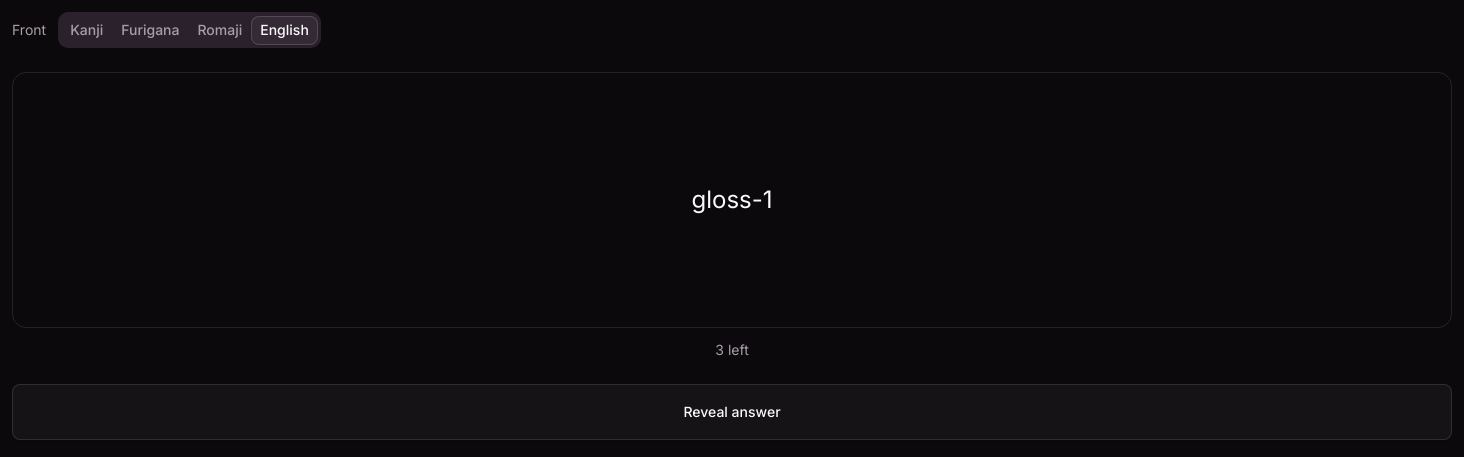
Scenario: Flashcards › flipping › shows the headword on the back in english mode, since the front had the gloss
The image size is (1464, 457).
Step 1. Click the button "Reveal answer" → x=732, y=412, box [12,384,1452,440]
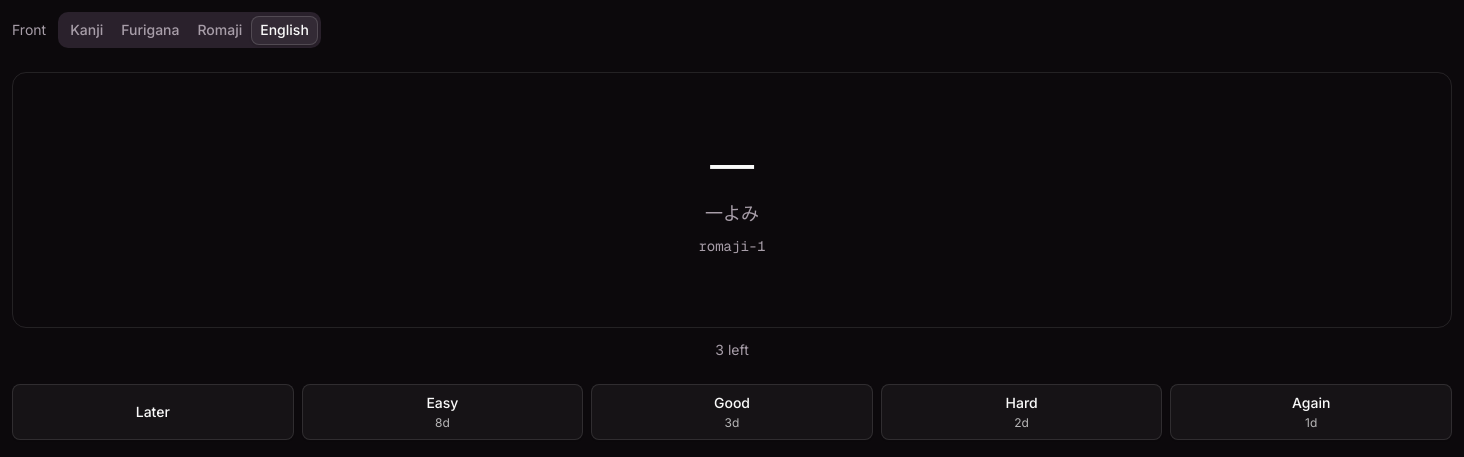
expect the text "一" is shown: met, box [708,138,756,197]
